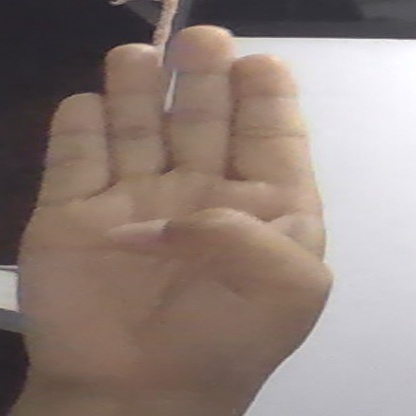B: (13, 24, 339, 401)
